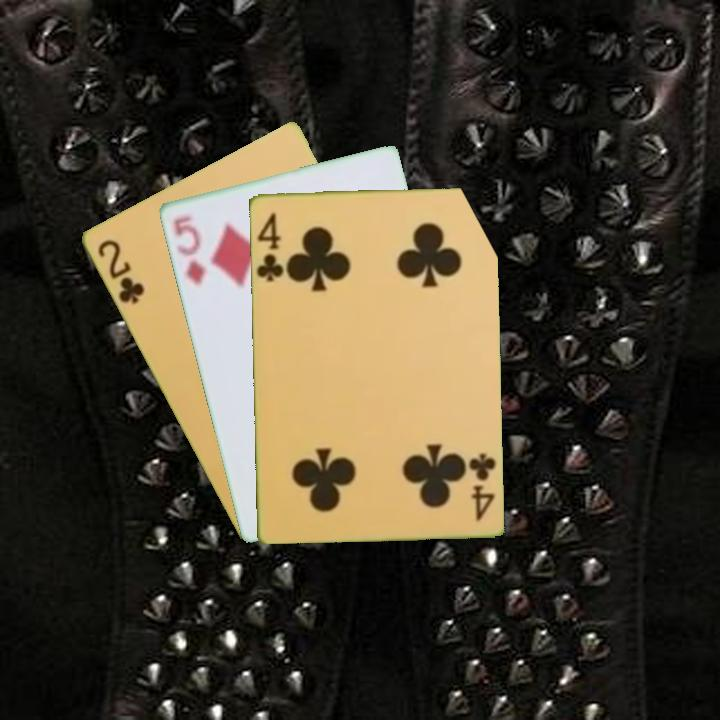2c: (93, 235, 147, 307)
4c: (253, 209, 286, 284), (465, 450, 498, 524)
5d: (169, 212, 208, 288)
